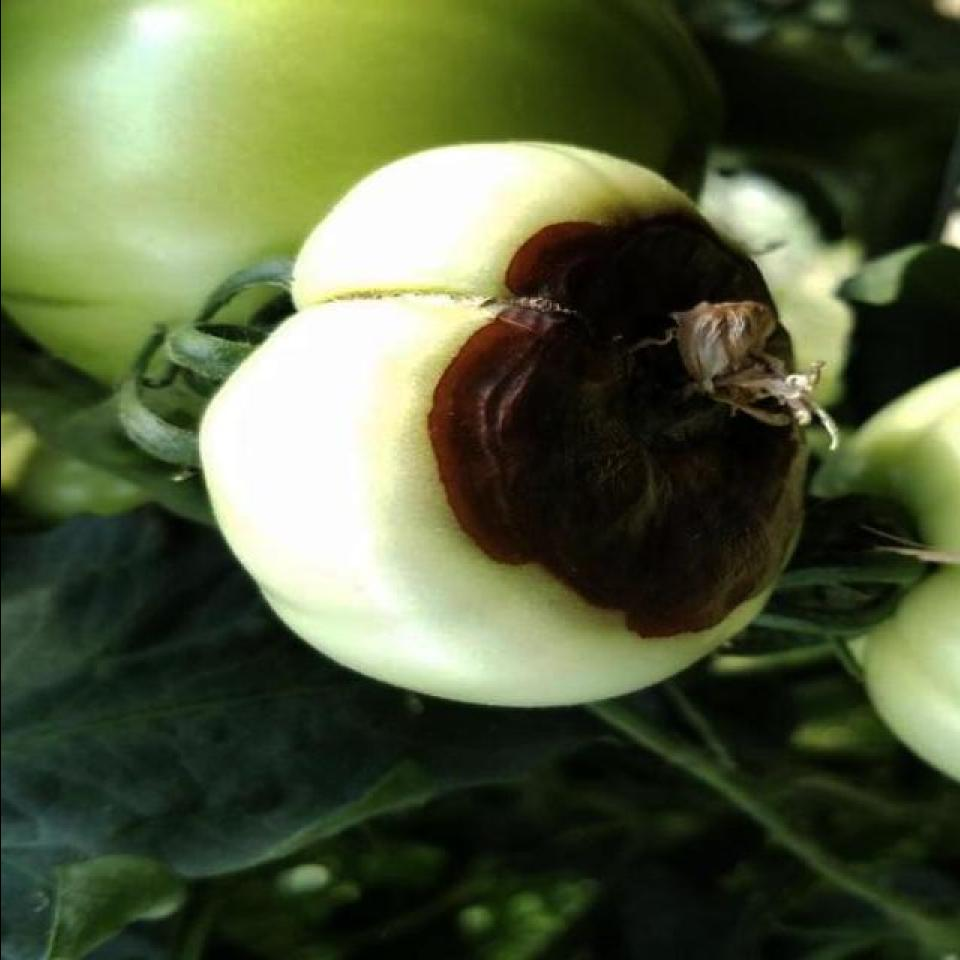Blossom_end_rot: (412, 212, 810, 648)
